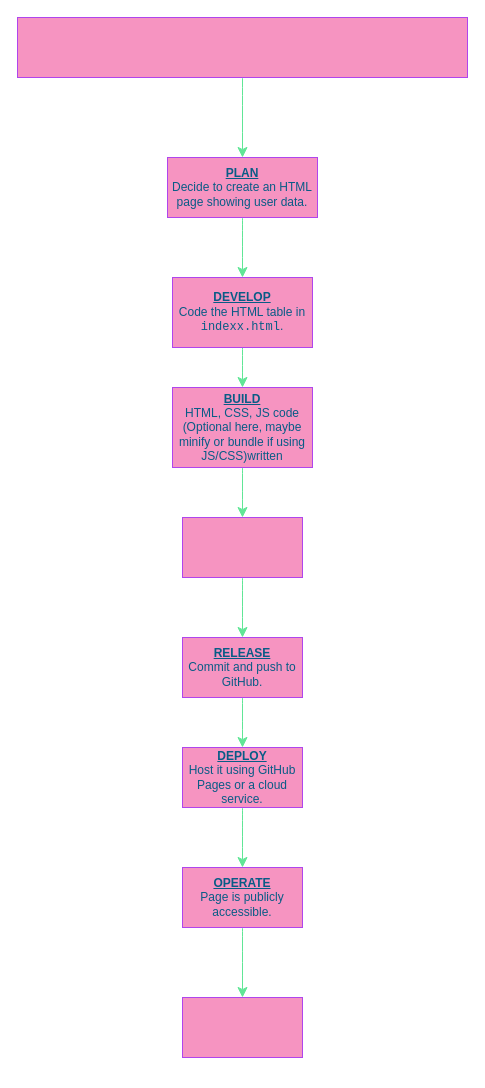
Some shapes in this 485 by 1088 pixel diagram are drawn without their labels. The centre of each missing label's shape, as x and y in pixels:
"DevOps Lifecycle for Html Application" goes at (x=242, y=47).
"MONITOR Use Google Analytics or uptime monitoring tools." goes at (x=242, y=1027).
"TEST Open in browser, verify content and formatting" goes at (x=242, y=547).
